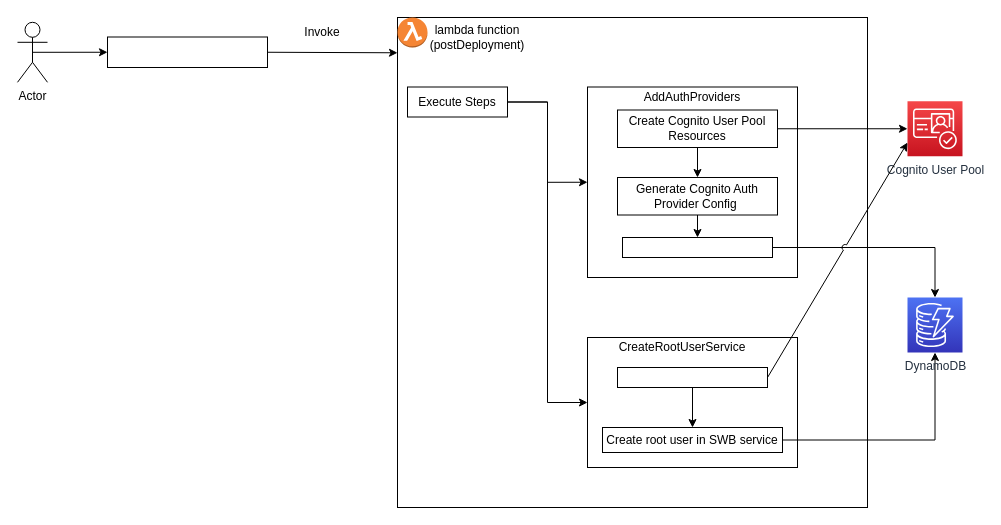
Image size: 1001x525. Some labels were removed from this diagram. Each missing label, with the box of its shape:
Create root user in Cognito: (616, 366, 768, 388)
Serverless Framework: (106, 36, 268, 68)
Store Auth Provider Config: (622, 236, 772, 258)
